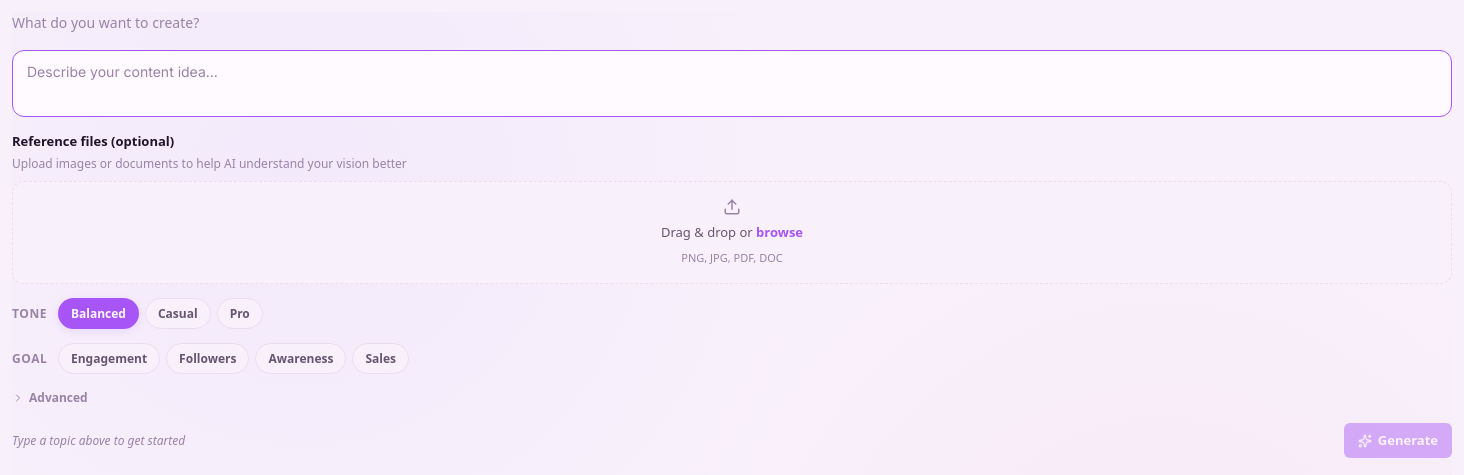
AIIdeaForm › submit button is enabled when topic has text
This screenshot has width=1464, height=475.
Type "New content about AI" into the text box with placeholder "Describe your content idea…" at (732, 84), box [12, 50, 1452, 117]
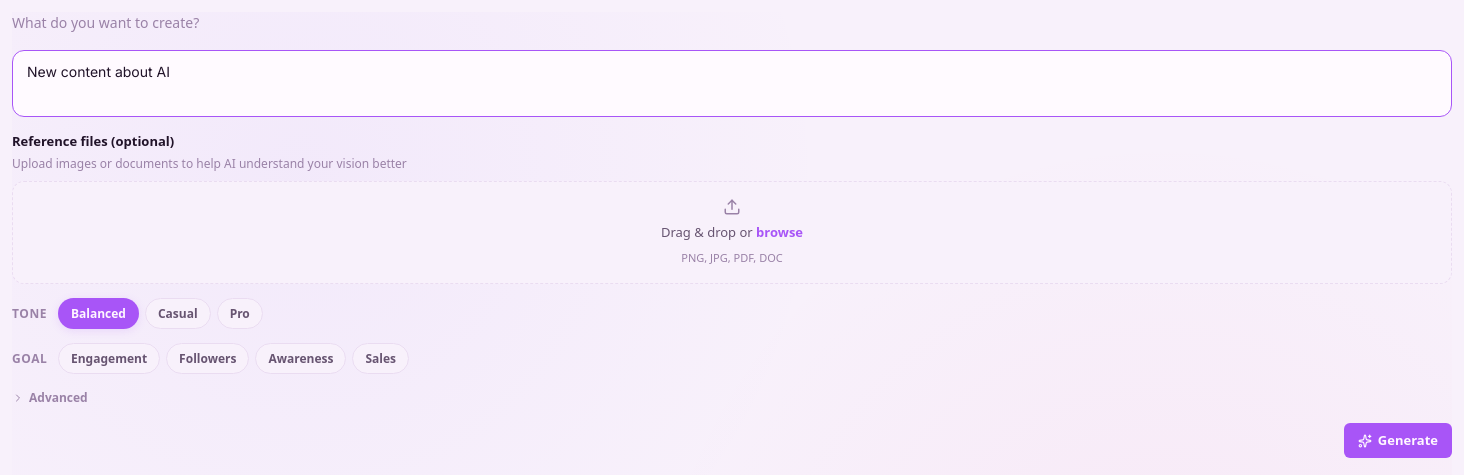
Expected: the button titled "Generate (Ctrl+Enter)" is enabled, [1344, 423, 1452, 458]
